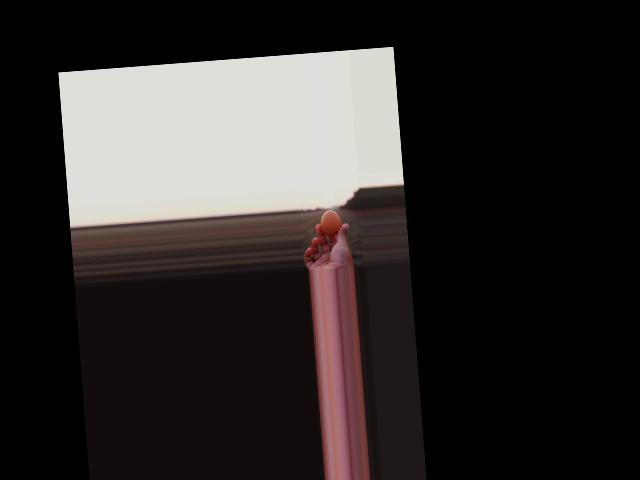egg: (319, 209, 341, 236)
